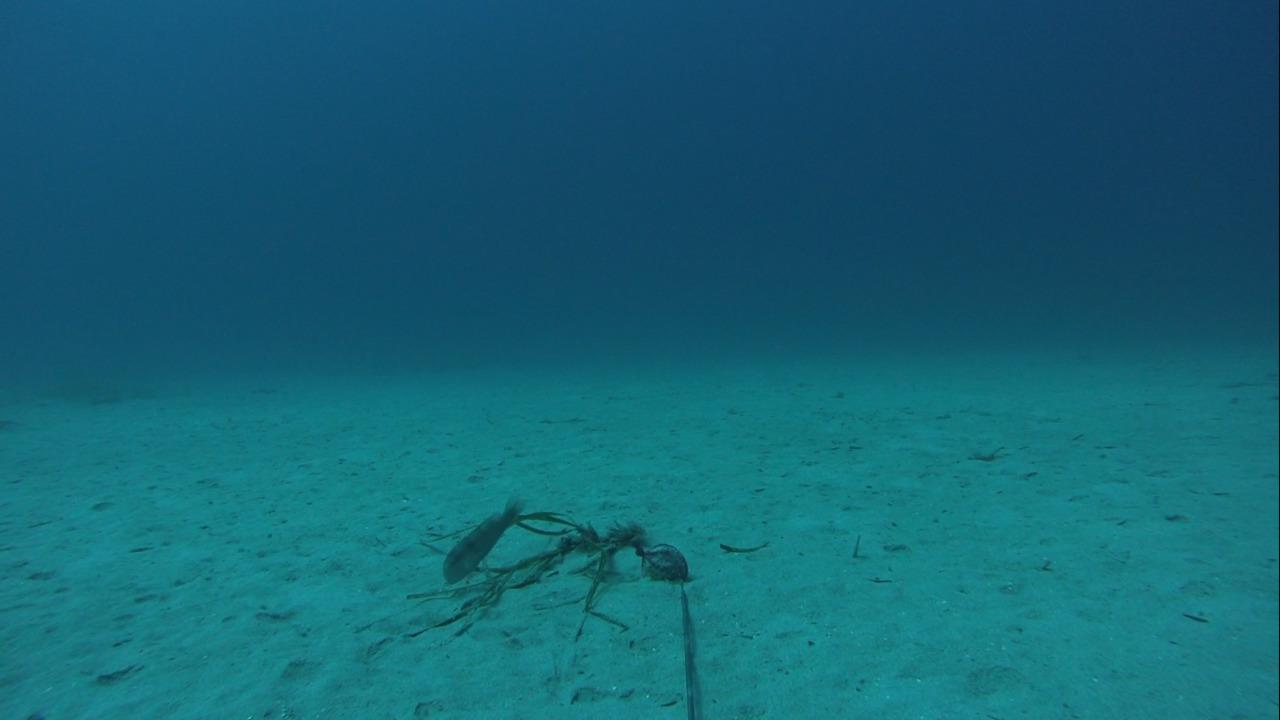raor: (438, 489, 523, 588)
